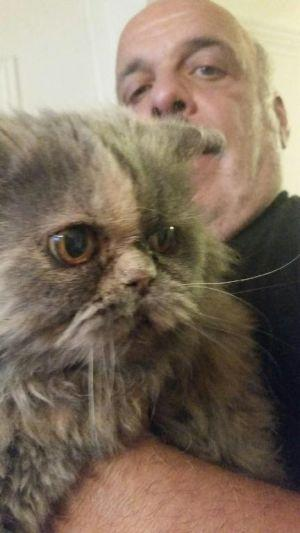persian: (1, 91, 241, 370)
